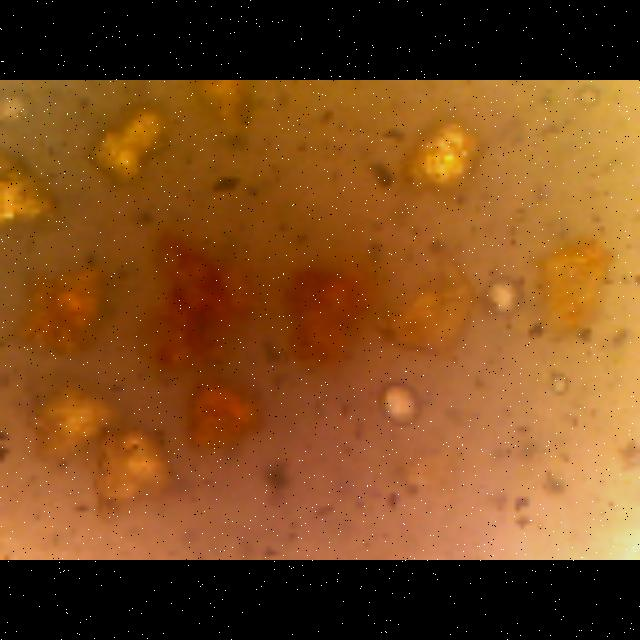Fragment: (374, 233, 476, 365), (9, 245, 116, 365), (276, 258, 368, 378), (525, 223, 613, 347), (16, 362, 116, 466), (88, 414, 178, 520), (391, 116, 489, 200), (82, 95, 164, 192), (182, 367, 266, 458), (0, 147, 67, 231), (192, 80, 262, 134), (0, 418, 18, 480)
microbeads: (374, 381, 422, 432), (478, 272, 524, 324)
